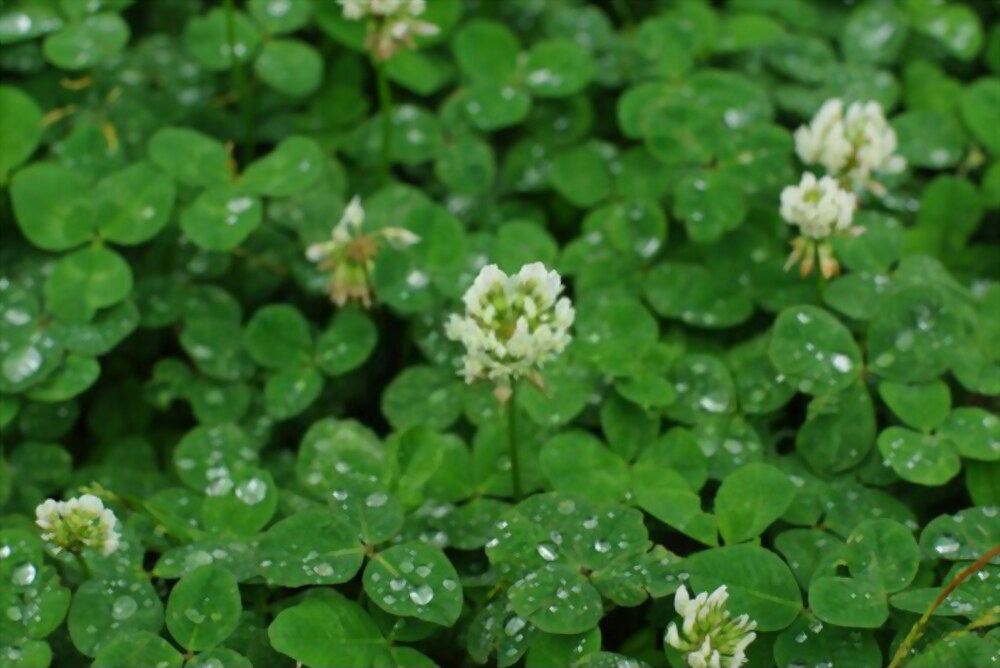clover: (5, 3, 998, 663)
